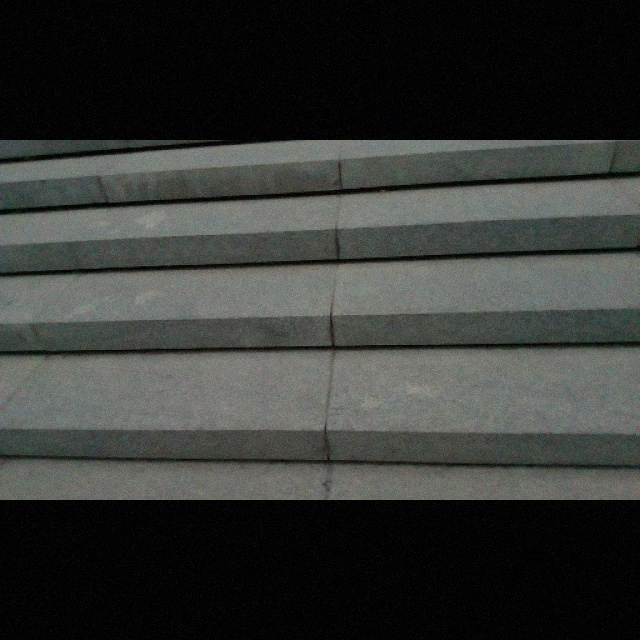stair: (0, 139, 632, 491)
